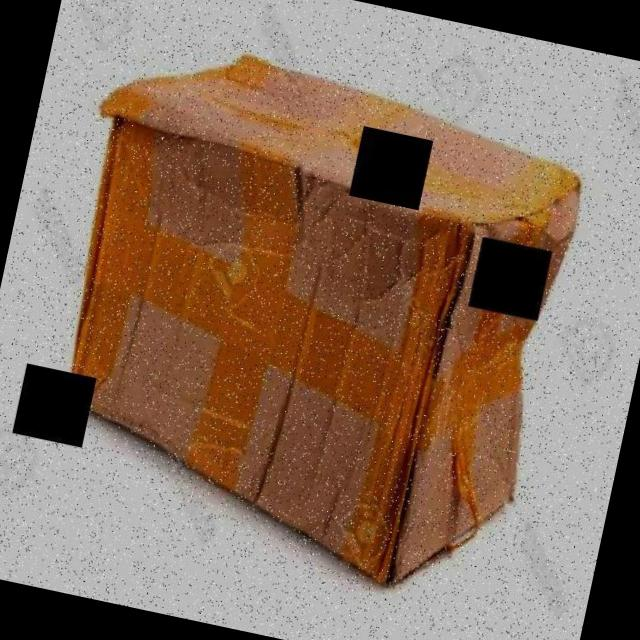box: (16, 31, 606, 608)
